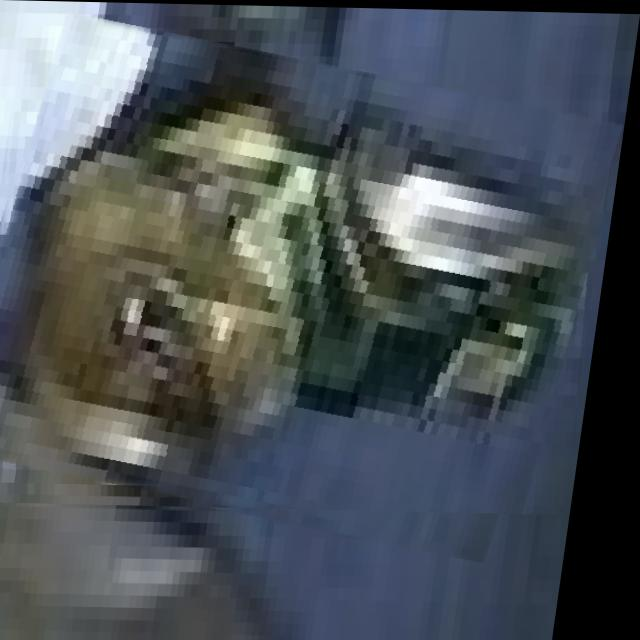can: (2, 57, 614, 506)
